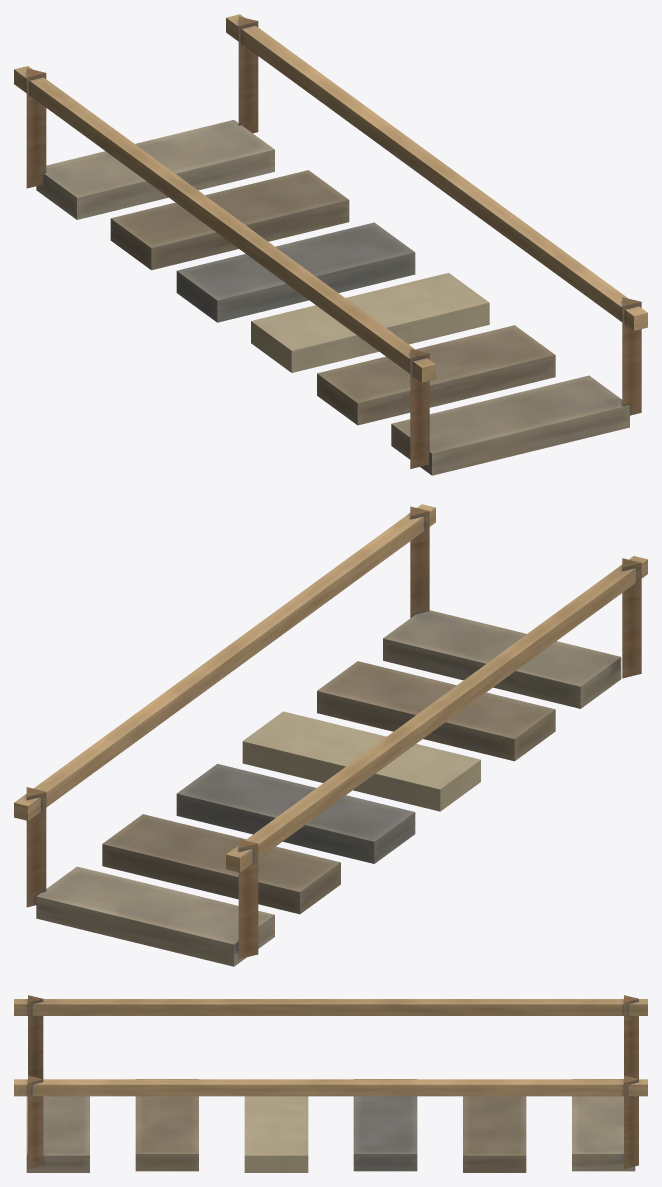
Rendered from raft-walk-age1.glb.
The picture shows the model from 3 angles, top to bottom: view 1: azimuth 30°, elevation 25°; view 2: azimuth 150°, elevation 25°; view 3: azimuth 270°, elevation 25°; orthographic projection. The views are drawn at different scales.
Visible parts, largest first — view 1: raft-walk-age1; view 2: raft-walk-age1; view 3: raft-walk-age1.
Boxes of the visible parts, x1,y1,x2,y2 form: raft-walk-age1: [14, 14, 647, 475]; raft-walk-age1: [14, 504, 647, 966]; raft-walk-age1: [14, 995, 647, 1172].
Bounding box in the file's own units: 0.3277 × 0.165 × 1.
Materials: 1 (1 with a texture image).
